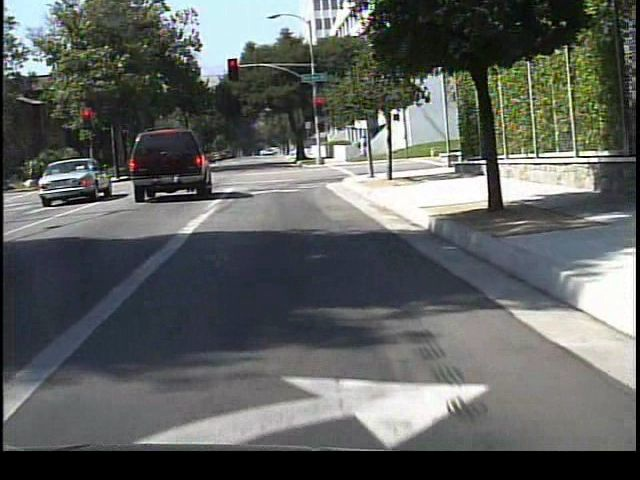person: (355, 135, 368, 163)
